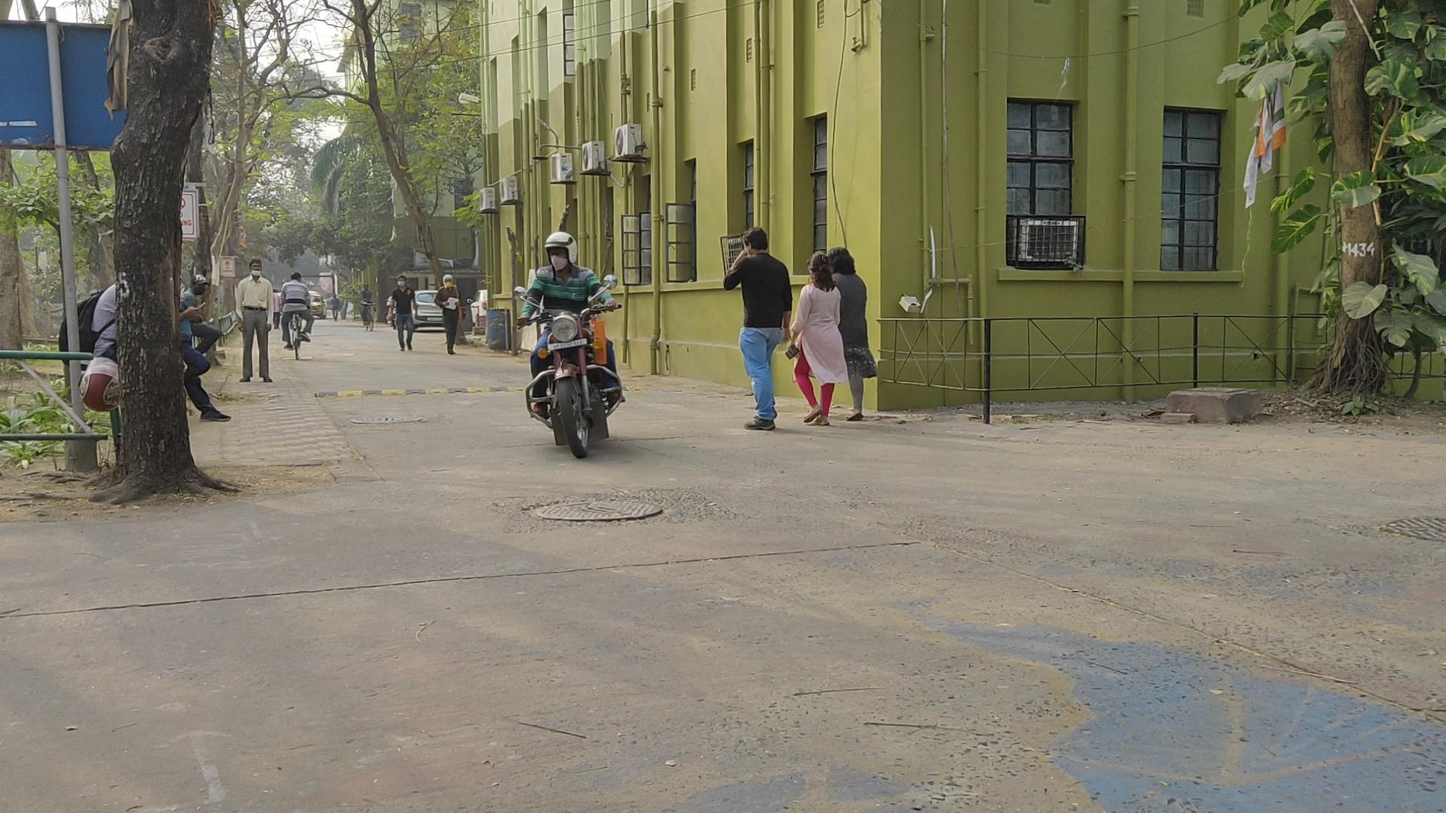bike: (513, 232, 623, 455), (279, 271, 315, 357), (358, 282, 377, 331)
